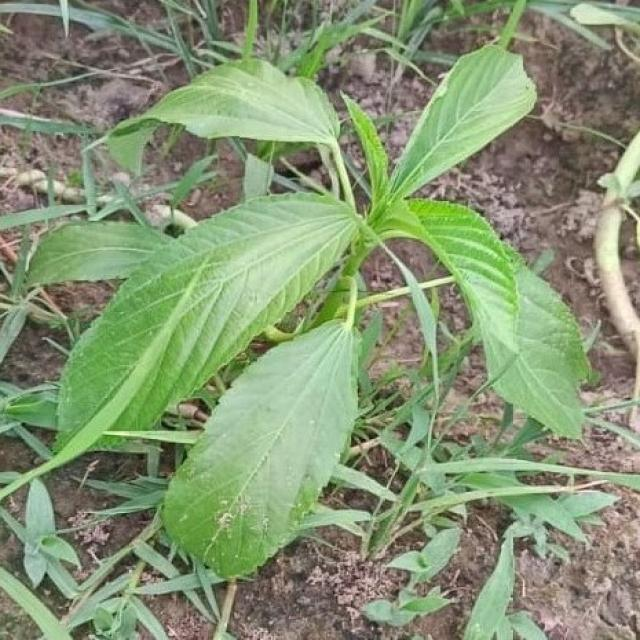plant: (19, 11, 588, 578)
